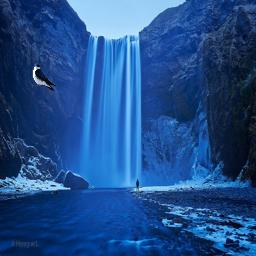Swallow: (32, 63, 57, 91)
